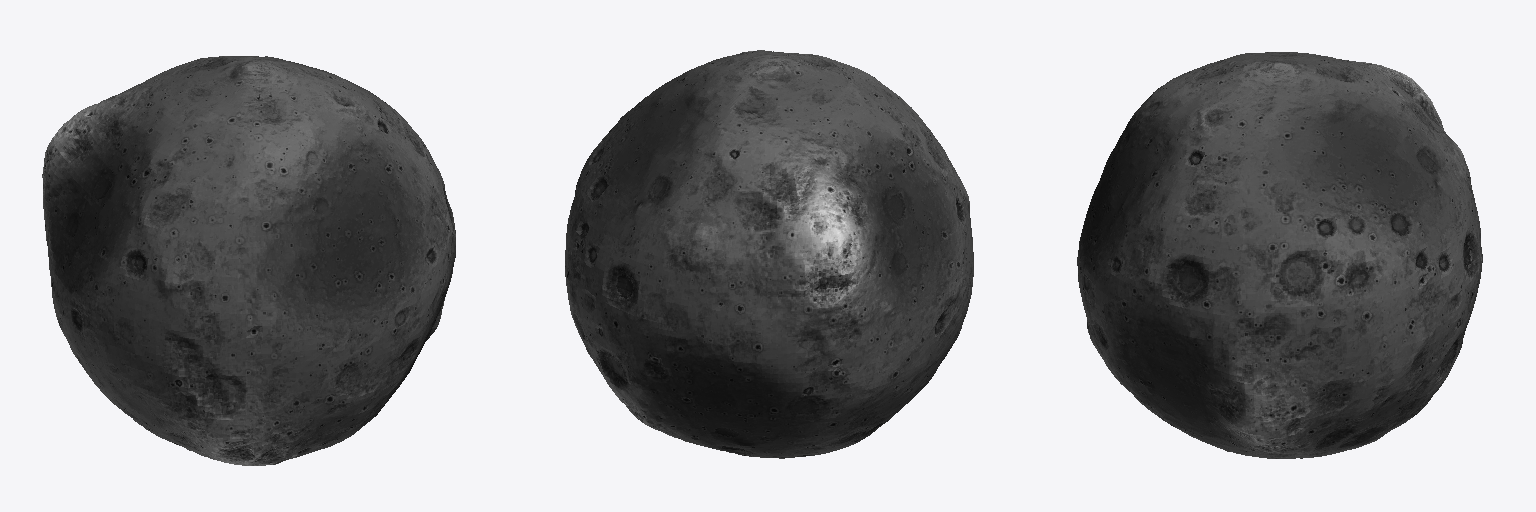
3 renders of one model, left to right at view 1: azimuth 30°, elevation 25°; view 2: azimuth 150°, elevation 25°; view 3: azimuth 270°, elevation 25°, orthographic.
Parts seen in each view (by area): view 1: mesh_asteroid; view 2: mesh_asteroid; view 3: mesh_asteroid.
Boxes of the visible parts, <box> form: mesh_asteroid: <box>42,56,455,465</box>; mesh_asteroid: <box>565,50,973,458</box>; mesh_asteroid: <box>1077,52,1482,458</box>.
Bounding box in the file's own units: 16.86 × 16.98 × 16.51.
Materials: 1 (1 with a texture image).